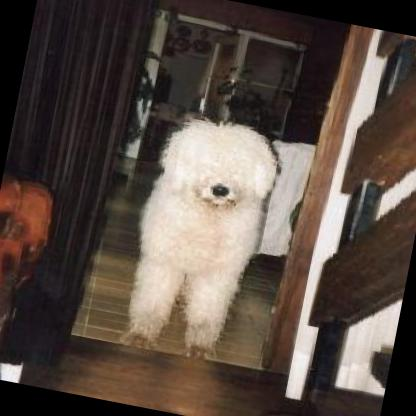komondor: (114, 104, 288, 370)
